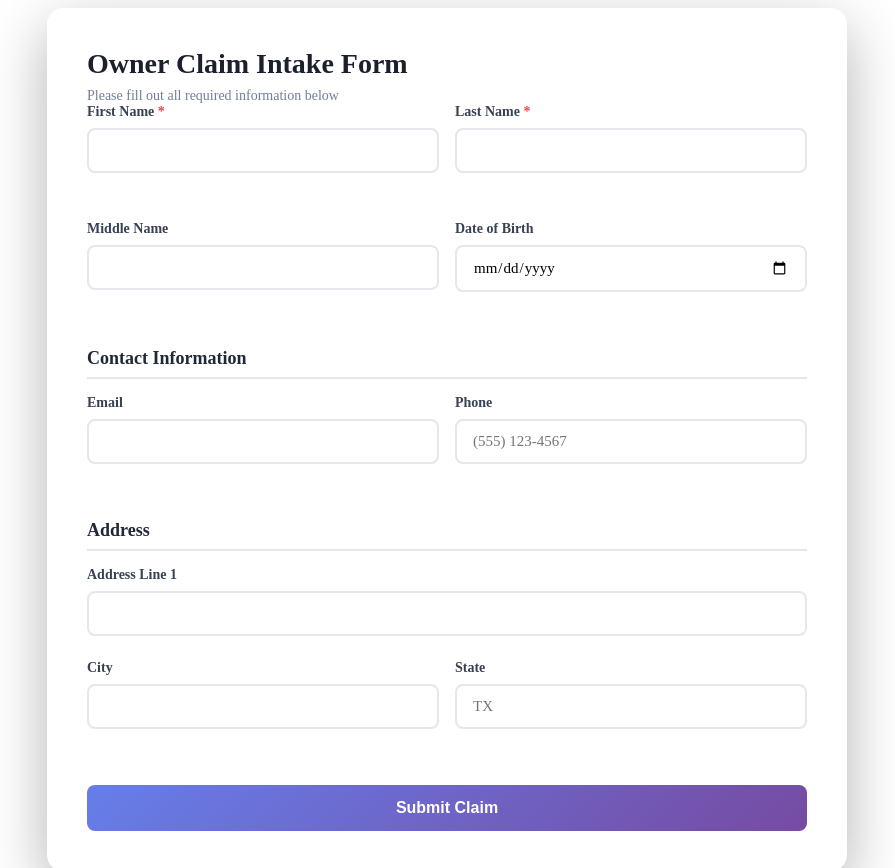
Test: OwnerClaimIntakeForm › displays error message on submission failure
The image size is (895, 868).
// Fill out required fields
Type "John" into the field labelled "First Name *" at point(263, 150), box x1=87 y1=128 x2=439 y2=173
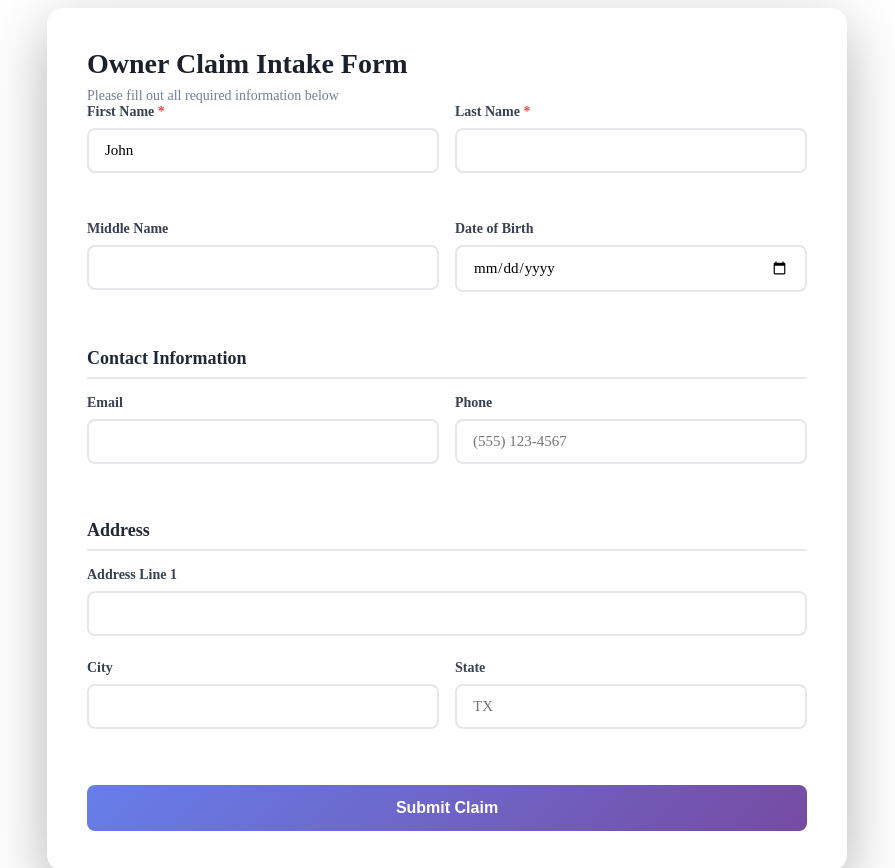
Type "Doe" into the field labelled "Last Name *" at point(631, 150), box x1=455 y1=128 x2=807 y2=173
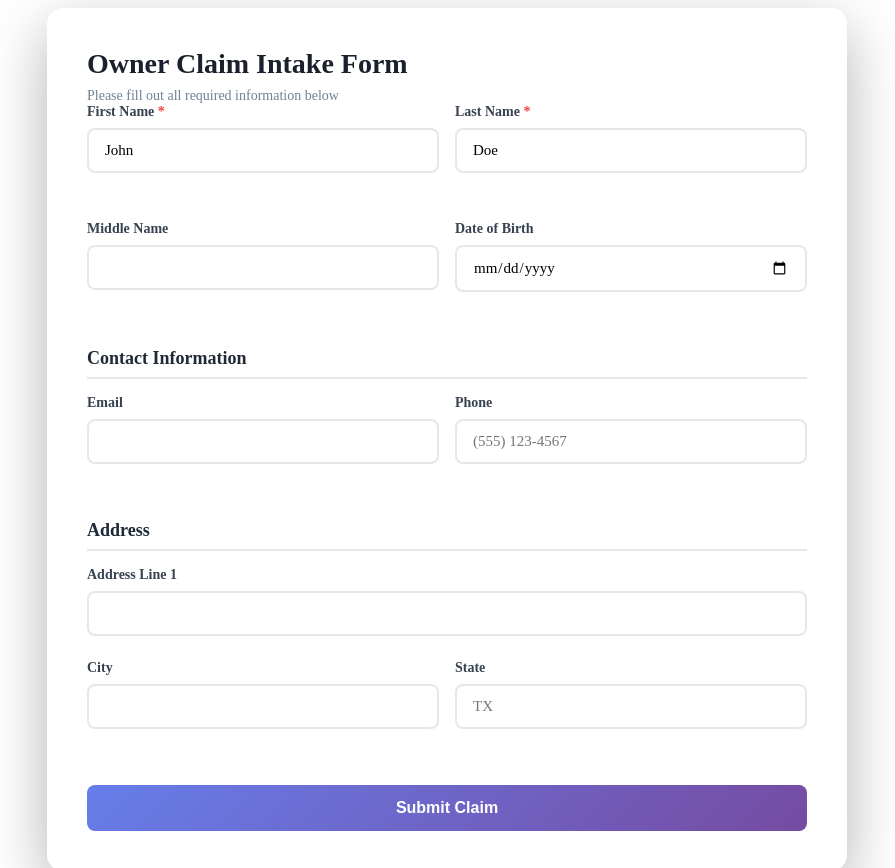
// Submit form
Click the button "Submit Claim" at point(447, 808), box x1=87 y1=785 x2=807 y2=831
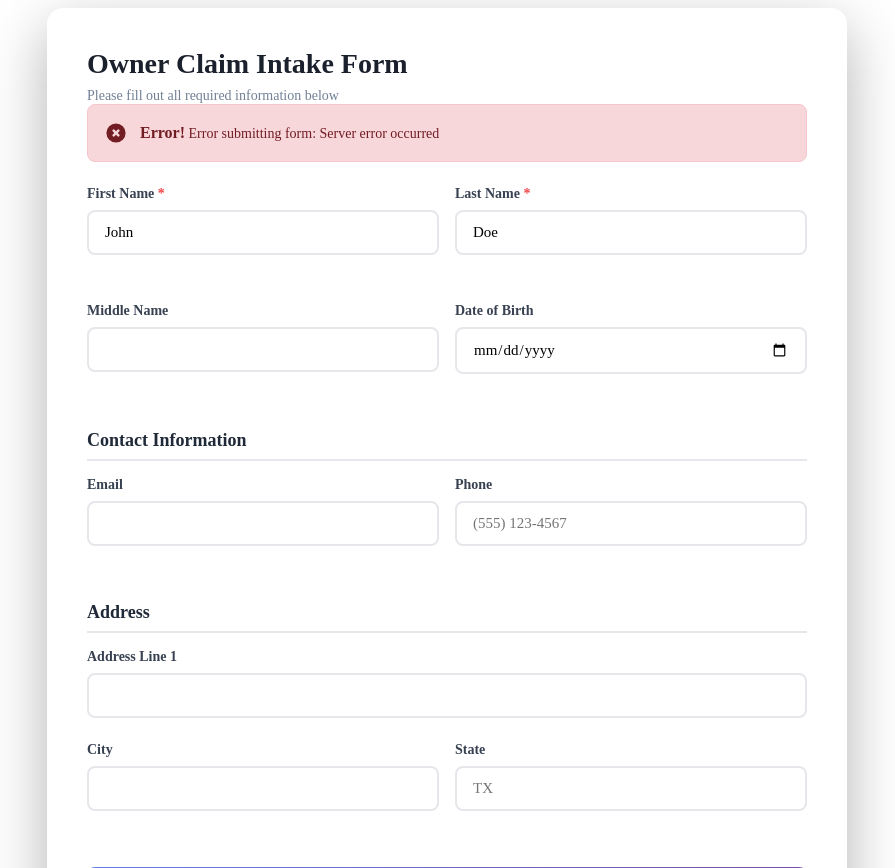
expect the text "Error submitting form: Server error occurred" is shown: met, box x1=185 y1=126 x2=439 y2=141
